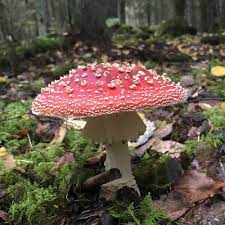Amanita muscaria: (25, 54, 191, 180)
